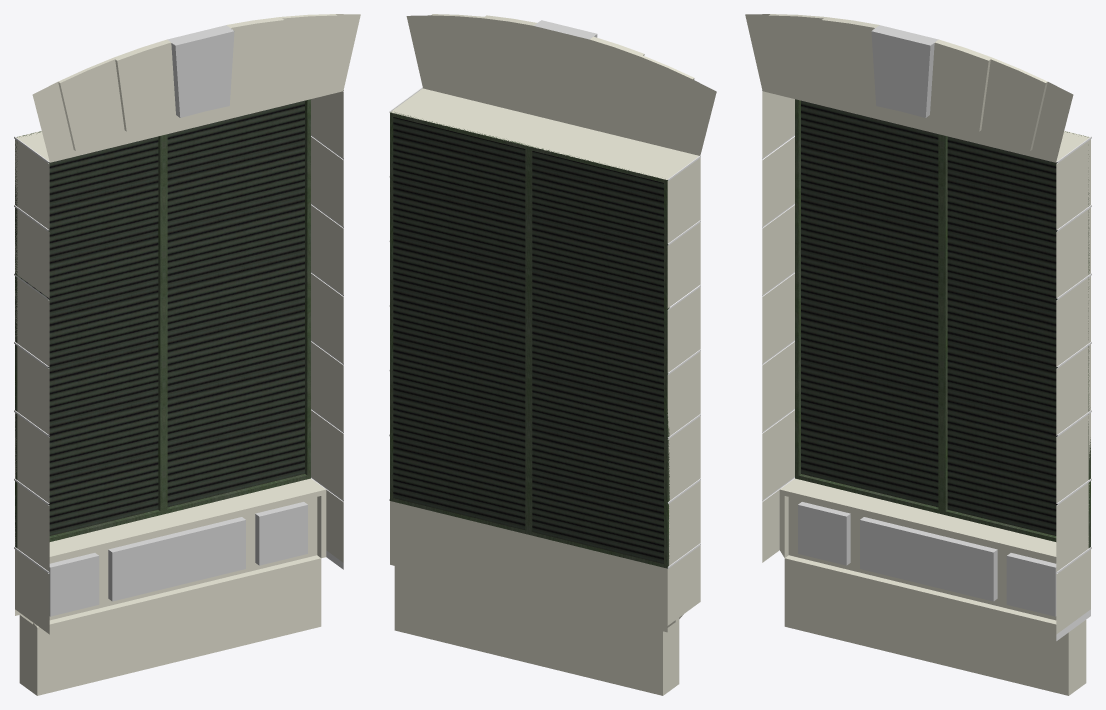
Rendered from window_corner_f1_1.glb.
3 views of the same model, side by side, from view 1: azimuth 30°, elevation 25°; view 2: azimuth 150°, elevation 25°; view 3: azimuth 330°, elevation 25° (orthographic). The views are drawn at different scales.
Parts seen in each view (by area): view 1: _C-Component#3 (Loose Mesh).009; view 2: _C-Component#3 (Loose Mesh).009; view 3: _C-Component#3 (Loose Mesh).009.
Boxes of the visible parts, x1=… form: _C-Component#3 (Loose Mesh).009: x1=14, y1=14, x2=360, y2=695; _C-Component#3 (Loose Mesh).009: x1=389, y1=14, x2=716, y2=695; _C-Component#3 (Loose Mesh).009: x1=745, y1=14, x2=1091, y2=695.
Bounding box in the file's own units: 2.5 × 4.68 × 0.57.
Materials: 5 (2 with a texture image).
